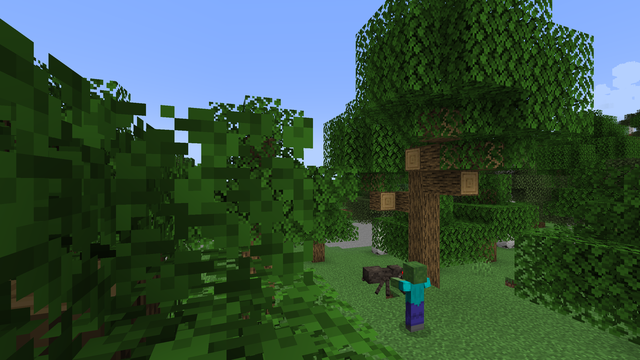araignees: (363, 259, 397, 295)
zombies: (400, 261, 429, 335)
